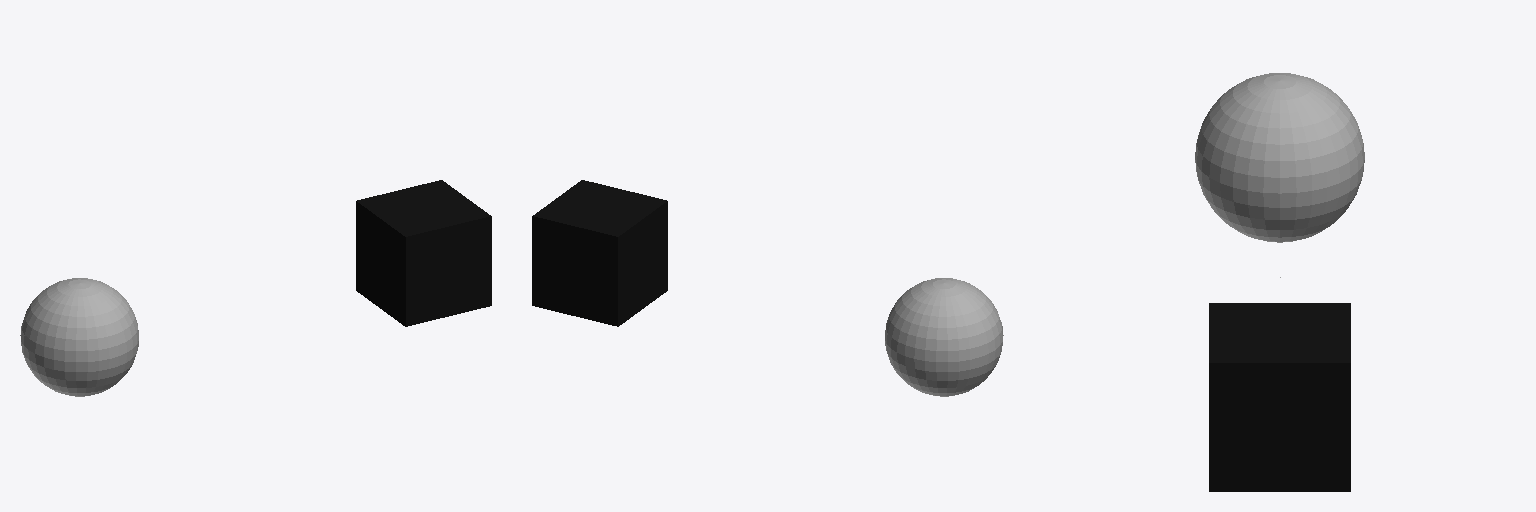
The robot description file, URDF, robot "vectorsense_drone":
<?xml version="1.0"?>
<robot name="vectorsense_drone">
  <!-- 
    Directive 2.1: Sovereign URDF Skeleton.
    Extracted kinematic tree for physics-accurate Gazebo simulation.
    Coordinate System: Z-up, X-forward.
  -->

  <!-- Materials -->
  <material name="industrial_steel">
    <color rgba="0.7 0.7 0.7 1.0"/>
  </material>
  <material name="carbon_composite">
    <color rgba="0.1 0.1 0.1 1.0"/>
  </material>

  <!-- Base Link: DroneFYDPBase (Center of Gravity) -->
  <link name="base_link">
    <inertial>
      <origin xyz="0 0 0" rpy="0 0 0"/>
      <mass value="2.5"/>
      <inertia ixx="0.05" ixy="0" ixz="0" iyy="0.05" iyz="0" izz="0.08"/>
    </inertial>
    <visual>
      <origin xyz="0 0 0" rpy="0 0 0"/>
      <geometry>
        <mesh filename="package://vectorsense_description/meshes/DroneFYDPBase.stl" scale="0.001 0.001 0.001"/>
      </geometry>
      <material name="industrial_steel"/>
    </visual>
    <collision>
      <origin xyz="0 0 0" rpy="0 0 0"/>
      <geometry>
        <mesh filename="package://vectorsense_description/meshes/DroneFYDPBase.stl" scale="0.001 0.001 0.001"/>
      </geometry>
    </collision>
  </link>

  <!-- Rigid Link: Xbeam -->
  <link name="xbeam_link">
    <visual>
      <origin xyz="0 0 0" rpy="0 0 0"/>
      <geometry>
        <mesh filename="package://vectorsense_description/meshes/Xbeam.stl" scale="0.001 0.001 0.001"/>
      </geometry>
      <material name="industrial_steel"/>
    </visual>
  </link>
  <joint name="xbeam_joint" type="fixed">
    <parent link="base_link"/>
    <child link="xbeam_link"/>
    <origin xyz="0 0 0.05" rpy="0 0 0"/>
  </joint>

  <!-- Rigid Link: 180beam -->
  <link name="beam180_link">
    <visual>
      <origin xyz="0 0 0" rpy="0 0 0"/>
      <geometry>
        <mesh filename="package://vectorsense_description/meshes/180beam.stl" scale="0.001 0.001 0.001"/>
      </geometry>
      <material name="industrial_steel"/>
    </visual>
  </link>
  <joint name="beam180_joint" type="fixed">
    <parent link="base_link"/>
    <child link="beam180_link"/>
    <origin xyz="0 0 0.05" rpy="0 0 1.5708"/>
  </joint>

  <!-- Rigid Link: top_plate -->
  <link name="top_plate_link">
    <visual>
      <origin xyz="0 0 0" rpy="0 0 0"/>
      <geometry>
        <mesh filename="package://vectorsense_description/meshes/top_plate.stl" scale="0.001 0.001 0.001"/>
      </geometry>
      <material name="carbon_composite"/>
    </visual>
  </link>
  <joint name="top_plate_joint" type="fixed">
    <parent link="base_link"/>
    <child link="top_plate_link"/>
    <origin xyz="0 0 0.1" rpy="0 0 0"/>
  </joint>

  <!-- Phase 1: Multi-Modal Sensor Extension -->
  
  <!-- FLIR Thermal Camera -->
  <link name="thermal_camera_link">
    <visual>
      <geometry><box size="0.05 0.05 0.05"/></geometry>
      <material name="carbon_composite"/>
    </visual>
  </link>
  <joint name="thermal_joint" type="fixed">
    <parent link="base_link"/>
    <child link="thermal_camera_link"/>
    <origin xyz="0.1 0 0" rpy="0 0 0"/>
  </joint>

  <gazebo reference="thermal_camera_link">
    <sensor name="thermal_camera" type="thermal">
      <camera>
        <horizontal_fov>1.047</horizontal_fov>
        <image>
          <width>320</width>
          <height>240</height>
          <format>L8</format>
        </image>
        <clip>
          <near>0.1</near>
          <far>100</far>
        </clip>
      </camera>
      <always_on>1</always_on>
      <update_rate>10</update_rate>
      <visualize>true</visualize>
      <topic>thermal_camera</topic>
    </sensor>
  </gazebo>

  <!-- Acoustic Array Placeholder -->
  <link name="acoustic_sensor_link">
    <visual>
      <geometry><sphere radius="0.03"/></geometry>
      <material name="industrial_steel"/>
    </visual>
  </link>
  <joint name="acoustic_joint" type="fixed">
    <parent link="base_link"/>
    <child link="acoustic_sensor_link"/>
    <origin xyz="-0.1 0 0" rpy="0 0 0"/>
  </joint>

  <!-- Grounding: Gazebo integration -->
  <gazebo>
    <plugin name="gazebo_ros_p3d" filename="libgazebo_ros_p3d.so">
      <ros>
        <namespace>vectorsense</namespace>
      </ros>
      <body_name>base_link</body_name>
      <topic_name>odom</topic_name>
      <update_rate>50.0</update_rate>
    </plugin>
  </gazebo>

</robot>

--- Render facts (derived) ---
The picture shows the robot from 3 angles, left to right: view 1: azimuth 30°, elevation 25°; view 2: azimuth 150°, elevation 25°; view 3: azimuth 270°, elevation 25°; orthographic projection.
Robot: vectorsense_drone — 6 links, 5 joints (5 fixed); root link base_link; default pose: every joint at zero.
Visible links, largest first — view 1: thermal_camera_link, acoustic_sensor_link; view 2: thermal_camera_link, acoustic_sensor_link; view 3: thermal_camera_link, acoustic_sensor_link.
Link boxes in pixels (x1,y1,x2,y2): thermal_camera_link: (356, 180, 491, 326); acoustic_sensor_link: (20, 278, 138, 396); thermal_camera_link: (532, 180, 667, 326); acoustic_sensor_link: (885, 278, 1003, 396); thermal_camera_link: (1209, 303, 1350, 491); acoustic_sensor_link: (1195, 73, 1364, 242).
Bounding box of the posed robot: 0.255 × 0.06 × 0.13 m (x, y, z).
4 mesh visuals loaded from 4 distinct referenced files (4 ASCII STL).
